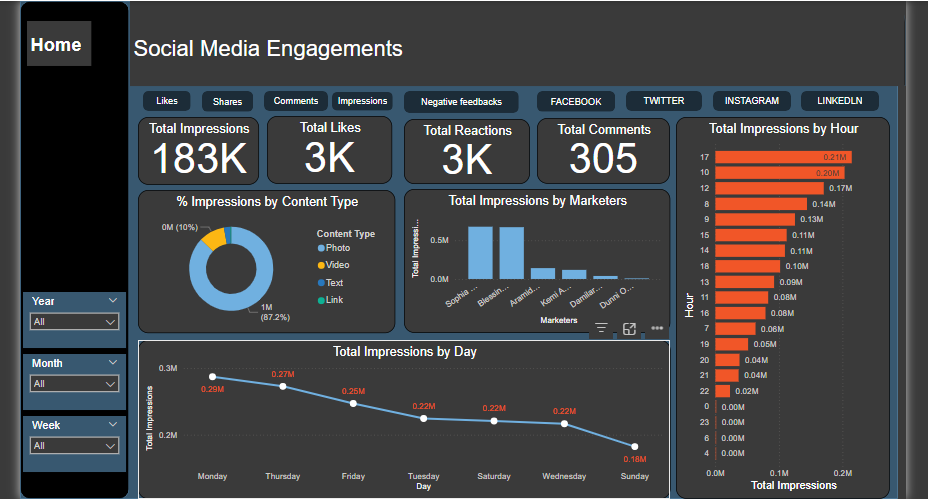

What the dashboard file says about the page in this screenshot:
{"tool":"powerbi","page":{"name":"Linkedln","canvas":[1280,720],"ordinal":3},"visuals":[{"type":"shape","box":[0,0,1269.4,720],"z":0},{"type":"actionButton","box":[747.5,130.1,112.8,30.4],"z":0,"group":"g1"},{"type":"shape","box":[0,0,158.3,720],"z":1000},{"type":"actionButton","box":[876.2,130.1,109.9,28.9],"z":1000,"group":"g1"},{"type":"shape","box":[163.3,0,1116.7,123.3],"z":2000},{"type":"actionButton","box":[1002,130.1,112.8,28.9],"z":2000,"group":"g1"},{"type":"textbox","box":[159,0,1120.5,122.9],"z":3000},{"type":"actionButton","box":[1129.2,130.1,112.8,28.9],"z":3000,"group":"g1"},{"type":"donutChart","fields":{"Y":["Post Performance (Stanbic IBTC) January 1, 2013 - July 13, 2023_LinkedIn.Impressions"],"Category":["Post Performance (Stanbic IBTC) January 1, 2013 - July 13, 2023_LinkedIn.Content Type"]},"box":[170.6,273.3,371.6,206.7],"z":4000},{"type":"columnChart","fields":{"Y":["Post Performance (Stanbic IBTC) January 1, 2013 - July 13, 2023_LinkedIn.Impressions"],"Category":["Post Performance (Stanbic IBTC) January 1, 2013 - July 13, 2023_LinkedIn.Sent by"]},"box":[555.2,271.8,384.6,208.2],"z":5000},{"type":"lineChart","fields":{"Y":["Post Performance (Stanbic IBTC) January 1, 2013 - July 13, 2023_LinkedIn.Impressions"],"Category":["Post Performance (Stanbic IBTC) January 1, 2013 - July 13, 2023_LinkedIn.Day of Week"]},"box":[170,490,770,230],"z":6000},{"type":"clusteredBarChart","fields":{"Category":["Post Performance (Stanbic IBTC) January 1, 2013 - July 13, 2023_LinkedIn.Hour"],"Y":["Post Performance (Stanbic IBTC) January 1, 2013 - July 13, 2023_LinkedIn.Impressions"]},"box":[948.4,167.7,309.4,552.3],"z":7000},{"type":"kpi","title":"Total Impressions","fields":{"Indicator":["Post Performance (Stanbic IBTC) January 1, 2013 - July 13, 2023_LinkedIn.Impressions"],"TrendLine":["Post Performance (Stanbic IBTC) January 1, 2013 - July 13, 2023_LinkedIn.Year"]},"box":[170.6,167.7,174.9,98.3],"z":8000},{"type":"kpi","title":"Total Reactions ","fields":{"Indicator":["Post Performance (Stanbic IBTC) January 1, 2013 - July 13, 2023_LinkedIn.Reactions"],"TrendLine":["Post Performance (Stanbic IBTC) January 1, 2013 - July 13, 2023_LinkedIn.Year"]},"box":[555.2,170.6,182.2,94],"z":9000},{"type":"kpi","title":"Total Likes ","fields":{"Indicator":["Post Performance (Stanbic IBTC) January 1, 2013 - July 13, 2023_LinkedIn.Likes"],"TrendLine":["Post Performance (Stanbic IBTC) January 1, 2013 - July 13, 2023_LinkedIn.Year"]},"box":[357.1,166.3,180.7,98.3],"z":10000},{"type":"kpi","title":"Total Comments ","fields":{"Indicator":["Post Performance (Stanbic IBTC) January 1, 2013 - July 13, 2023_LinkedIn.Comments"],"TrendLine":["Post Performance (Stanbic IBTC) January 1, 2013 - July 13, 2023_LinkedIn.Year"]},"box":[747.5,169.2,192.3,95.4],"z":11000},{"type":"textbox","box":[10.1,28.9,92.5,65.1],"z":12000},{"type":"slicer","fields":{"Values":["Post Performance (Stanbic IBTC) January 1, 2013 - July 13, 2023_LinkedIn.Day of Week"]},"box":[4.3,600,148.9,81],"z":13000},{"type":"slicer","fields":{"Values":["Post Performance (Stanbic IBTC) January 1, 2013 - July 13, 2023_LinkedIn.Month"]},"box":[4.3,510.4,148.9,81],"z":14000},{"type":"slicer","fields":{"Values":["Post Performance (Stanbic IBTC) January 1, 2013 - July 13, 2023_LinkedIn.Year"]},"box":[4.3,420.7,148.9,81],"z":15000},{"type":"actionButton","box":[263.1,130.1,73.7,30.4],"z":16000},{"type":"actionButton","box":[177.8,130.1,69.4,28.9],"z":17000},{"type":"actionButton","box":[352.8,130.1,92.5,28.9],"z":18000},{"type":"actionButton","box":[451.1,131.6,88.2,27.5],"z":19000},{"type":"actionButton","box":[555.2,130.1,166.3,31.8],"z":20000},{"type":"group","id":"g1","title":"Group 1","box":[747.5,130.1,494.5,30.4],"z":21000}]}

Visuals, with their boxes on the page's 1280x720 design canvas (x1, y1, x2, y2). These are canvas units, not pixel positions in the 928x499 screenshot, which may show the page scaled, cropped or inside an application window:
shape: bbox(0, 0, 1269, 720)
actionButton: bbox(748, 130, 860, 160)
shape: bbox(0, 0, 158, 720)
actionButton: bbox(876, 130, 986, 159)
shape: bbox(163, 0, 1280, 123)
actionButton: bbox(1002, 130, 1115, 159)
textbox: bbox(159, 0, 1280, 123)
actionButton: bbox(1129, 130, 1242, 159)
donutChart - Post Performance (Stanbic IBTC) January 1, 2013 - July 13, 2023_LinkedIn.Impressions x Post Performance (Stanbic IBTC) January 1, 2013 - July 13, 2023_LinkedIn.Content Type: bbox(171, 273, 542, 480)
columnChart - Post Performance (Stanbic IBTC) January 1, 2013 - July 13, 2023_LinkedIn.Impressions x Post Performance (Stanbic IBTC) January 1, 2013 - July 13, 2023_LinkedIn.Sent by: bbox(555, 272, 940, 480)
lineChart - Post Performance (Stanbic IBTC) January 1, 2013 - July 13, 2023_LinkedIn.Impressions x Post Performance (Stanbic IBTC) January 1, 2013 - July 13, 2023_LinkedIn.Day of Week: bbox(170, 490, 940, 720)
clusteredBarChart - Post Performance (Stanbic IBTC) January 1, 2013 - July 13, 2023_LinkedIn.Hour x Post Performance (Stanbic IBTC) January 1, 2013 - July 13, 2023_LinkedIn.Impressions: bbox(948, 168, 1258, 720)
"Total Impressions" kpi: bbox(171, 168, 346, 266)
"Total Reactions " kpi: bbox(555, 171, 737, 265)
"Total Likes " kpi: bbox(357, 166, 538, 265)
"Total Comments " kpi: bbox(748, 169, 940, 265)
textbox: bbox(10, 29, 103, 94)
slicer - Post Performance (Stanbic IBTC) January 1, 2013 - July 13, 2023_LinkedIn.Day of Week: bbox(4, 600, 153, 681)
slicer - Post Performance (Stanbic IBTC) January 1, 2013 - July 13, 2023_LinkedIn.Month: bbox(4, 510, 153, 591)
slicer - Post Performance (Stanbic IBTC) January 1, 2013 - July 13, 2023_LinkedIn.Year: bbox(4, 421, 153, 502)
actionButton: bbox(263, 130, 337, 160)
actionButton: bbox(178, 130, 247, 159)
actionButton: bbox(353, 130, 445, 159)
actionButton: bbox(451, 132, 539, 159)
actionButton: bbox(555, 130, 722, 162)
"Group 1" group: bbox(748, 130, 1242, 160)
